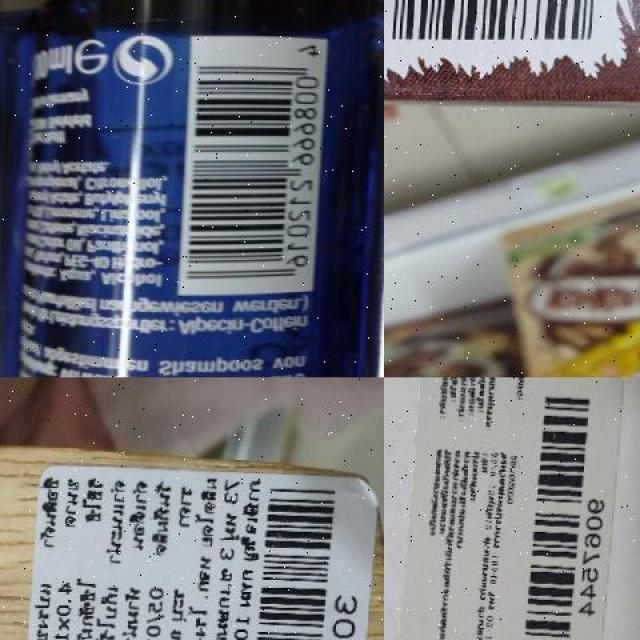Barcode: (180, 34, 328, 294), (518, 377, 614, 640), (240, 478, 366, 640)
